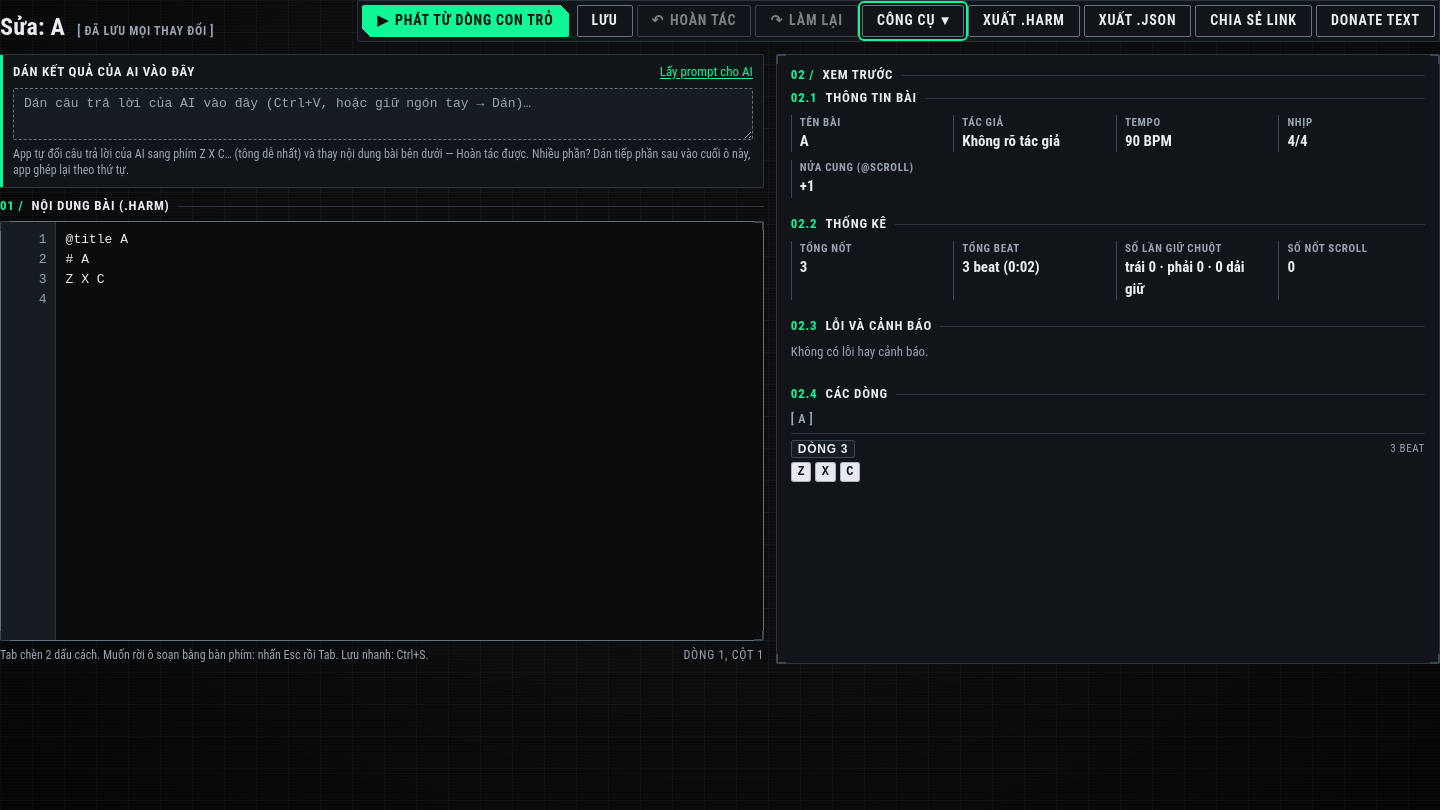
Scenario: EditorView — focus khi đóng công cụ thật › Tap timing (gõ nhịp): Esc trả focus về nút Công cụ
Click the button "Công cụ ▾" at (913, 21), box [862,5,964,37]
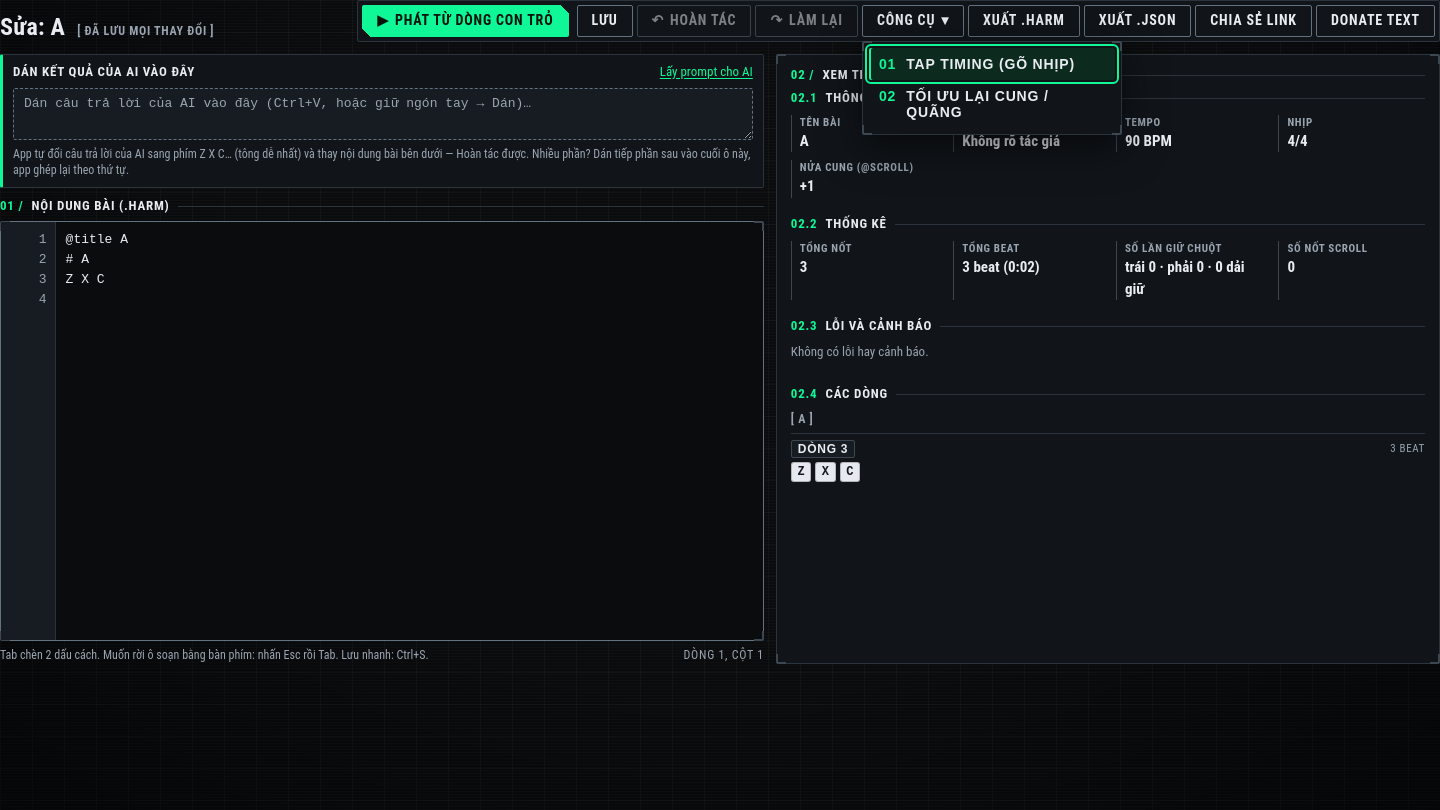
Click the button "Tap timing (gõ nhịp)" at (992, 64), box [869,48,1115,80]
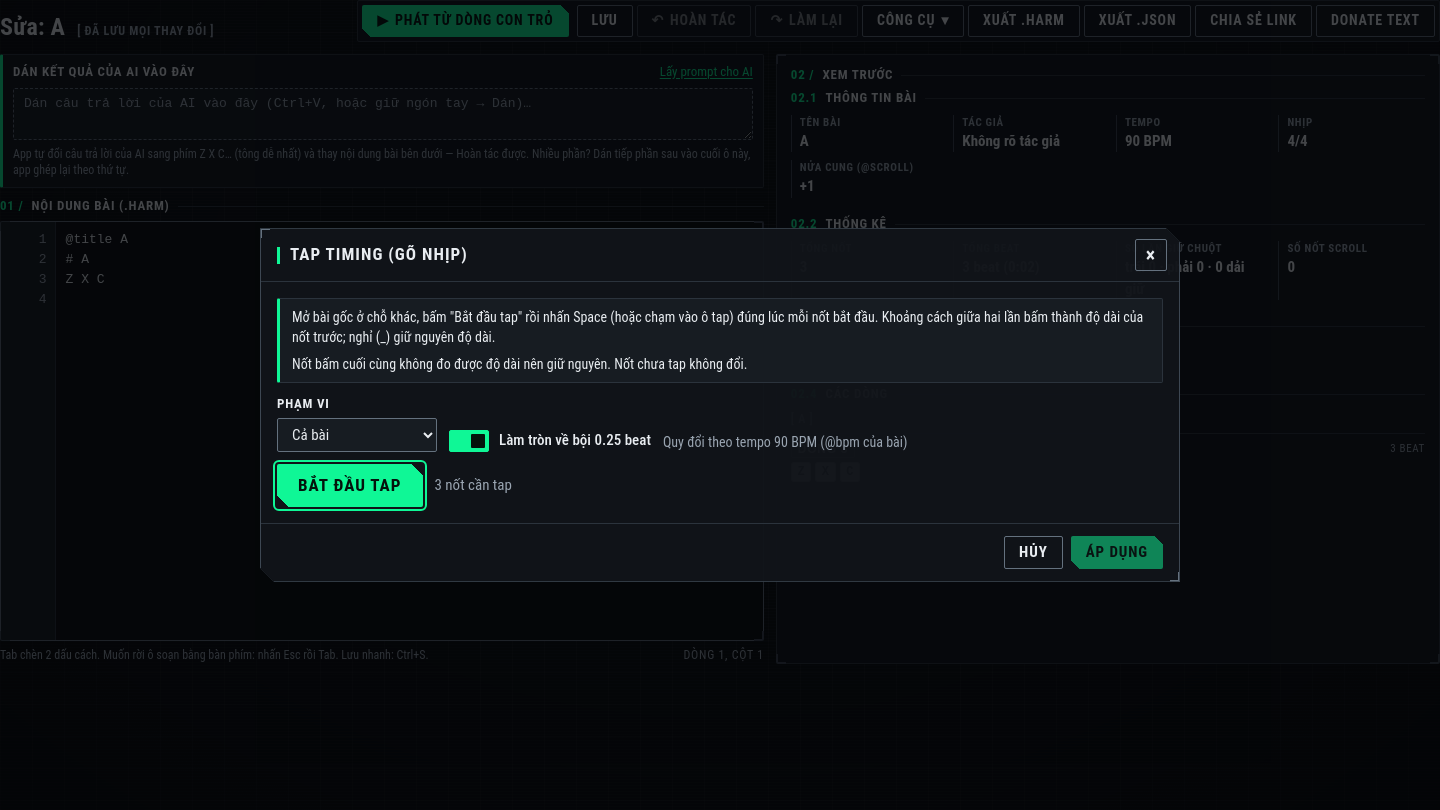
Press Escape
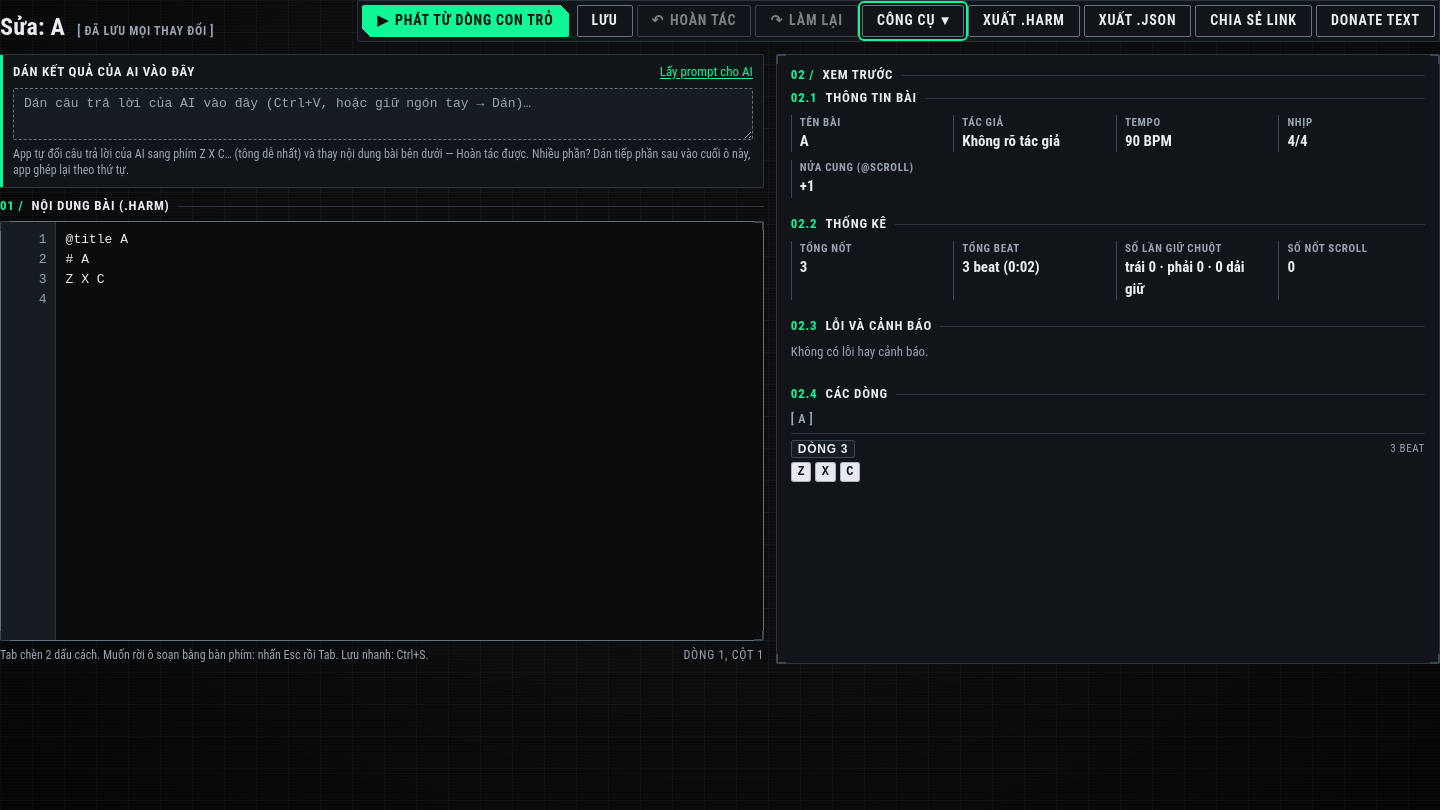
Expected: the dialog is gone
